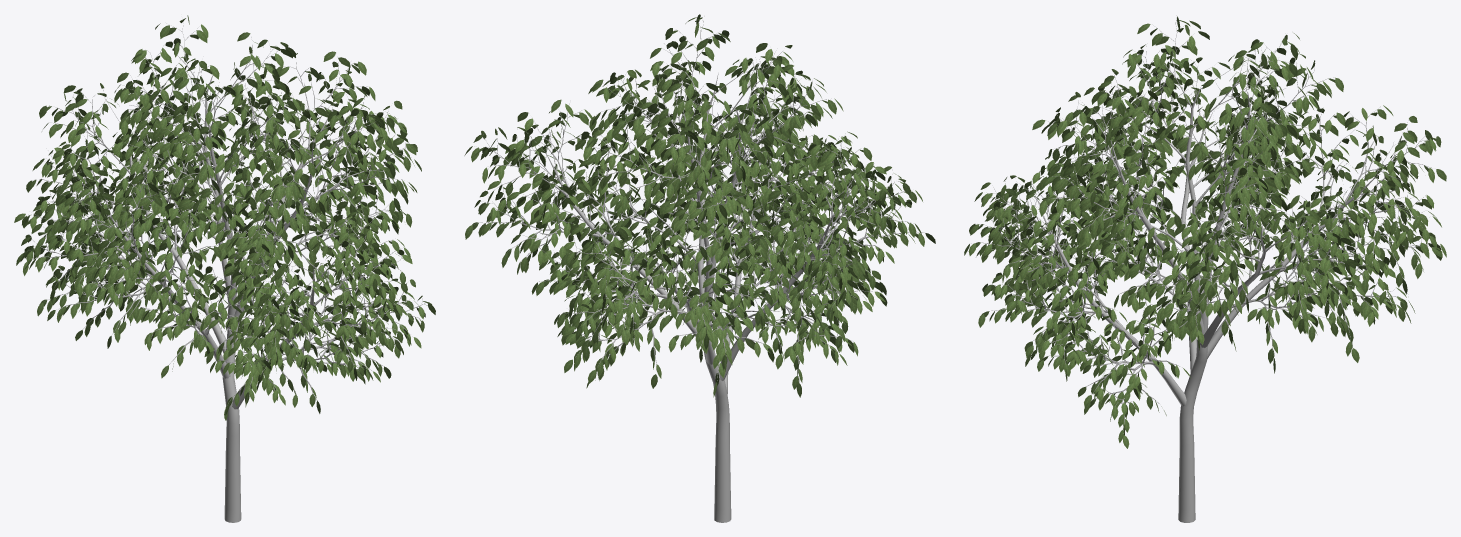
3 views of the same model, side by side, from view 1: azimuth 30°, elevation 25°; view 2: azimuth 150°, elevation 25°; view 3: azimuth 270°, elevation 25° (orthographic). The views are drawn at different scales.
Parts seen in each view (by area): view 1: Cherry.obj.Shape_Leaf_0, Cherry.obj.Shape_Branch_3_0, Cherry.obj.Shape_Branch_2_0, Cherry.obj.Shape_Trunk_0; view 2: Cherry.obj.Shape_Leaf_0, Cherry.obj.Shape_Branch_3_0, Cherry.obj.Shape_Branch_2_0, Cherry.obj.Shape_Trunk_0; view 3: Cherry.obj.Shape_Leaf_0, Cherry.obj.Shape_Branch_3_0, Cherry.obj.Shape_Trunk_0, Cherry.obj.Shape_Branch_2_0.
Boxes of the visible parts, left/top/right/bottom form: Cherry.obj.Shape_Leaf_0: left=14, top=15, right=435, bottom=420; Cherry.obj.Shape_Branch_3_0: left=29, top=26, right=424, bottom=403; Cherry.obj.Shape_Branch_2_0: left=29, top=20, right=419, bottom=366; Cherry.obj.Shape_Trunk_0: left=100, top=76, right=332, bottom=522; Cherry.obj.Shape_Leaf_0: left=464, top=14, right=935, bottom=397; Cherry.obj.Shape_Branch_3_0: left=474, top=20, right=924, bottom=381; Cherry.obj.Shape_Branch_2_0: left=480, top=16, right=901, bottom=341; Cherry.obj.Shape_Trunk_0: left=546, top=73, right=833, bottom=522; Cherry.obj.Shape_Leaf_0: left=964, top=16, right=1446, bottom=448; Cherry.obj.Shape_Branch_3_0: left=971, top=20, right=1431, bottom=433; Cherry.obj.Shape_Trunk_0: left=1042, top=89, right=1379, bottom=522; Cherry.obj.Shape_Branch_2_0: left=990, top=15, right=1427, bottom=403.
Size of the model in its own units: 3 by 3.51 by 3.17.
Materials: 2 (1 with a texture image).
